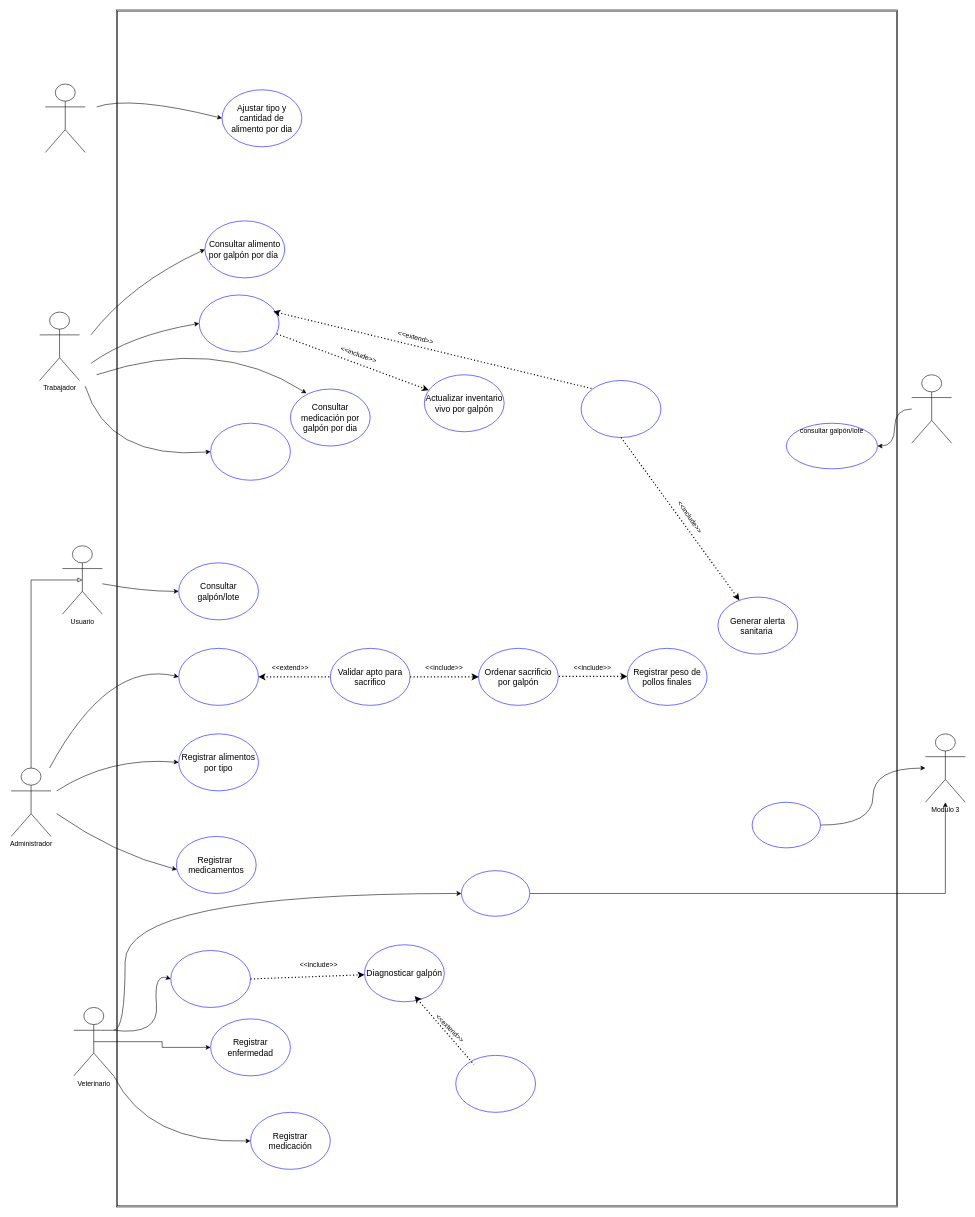
Image size: 975x1217. Some labels were removed from this diagram. Each missing label, with the centre of its shape:
Consultar alimento requerido por galpón: pixel 786 825
Consultar edad por galpón: pixel 218 676
Modulo 1: pixel 931 408
Nutricionista: pixel 65 118
Ordenar sacrificio sanitario: pixel 495 1083
Registrar consumo medicamento: pixel 495 893
Registrar mortalidad anormal: pixel 621 408
Registrar mortalidad por galpón: pixel 239 323
Solicitar validación para aislar galpón: pixel 250 451
Validar aislamiento: pixel 210 978
